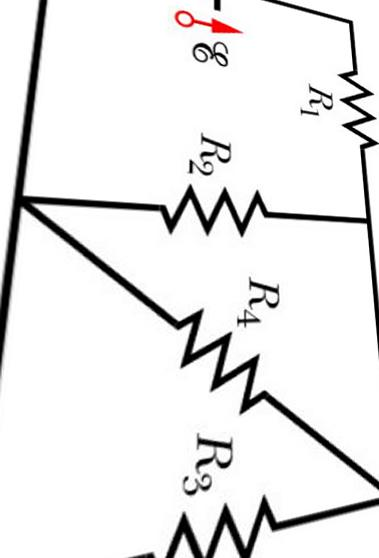resistor: (169, 294, 272, 416), (148, 175, 288, 258), (154, 481, 294, 557), (327, 55, 376, 161)
